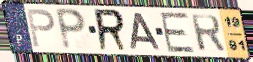A: (129, 12, 163, 52)
E: (158, 12, 196, 54)
P: (54, 6, 88, 52), (25, 8, 57, 49)
R: (93, 7, 130, 53), (189, 13, 228, 53)
